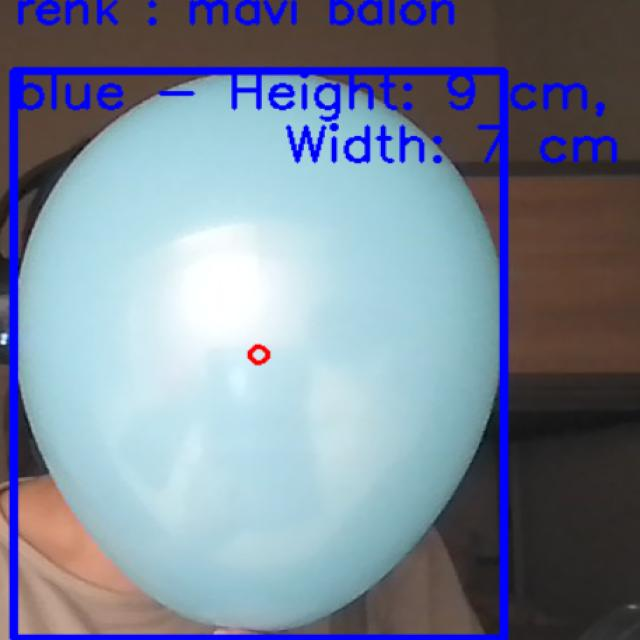blue: (16, 76, 506, 640)
